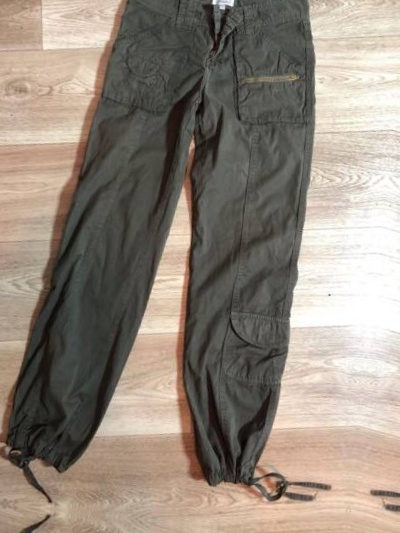Pants: (0, 0, 356, 518), (0, 521, 293, 533), (397, 24, 400, 533)
